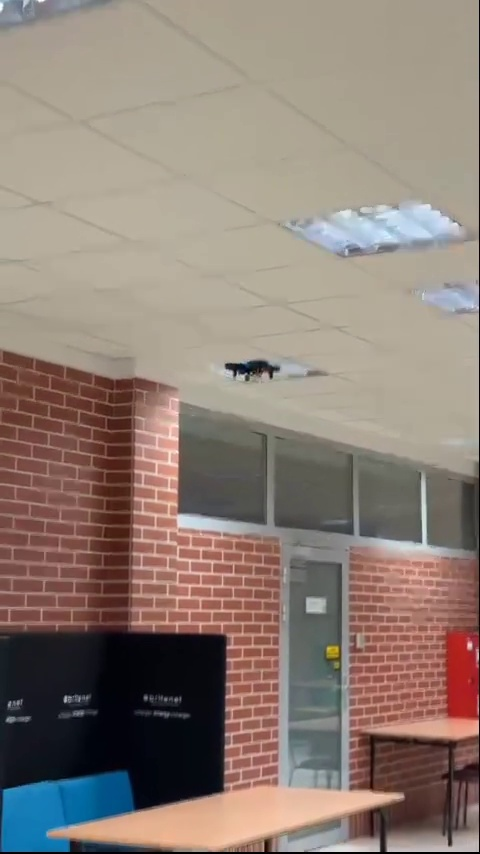drone: (225, 360, 282, 382)
